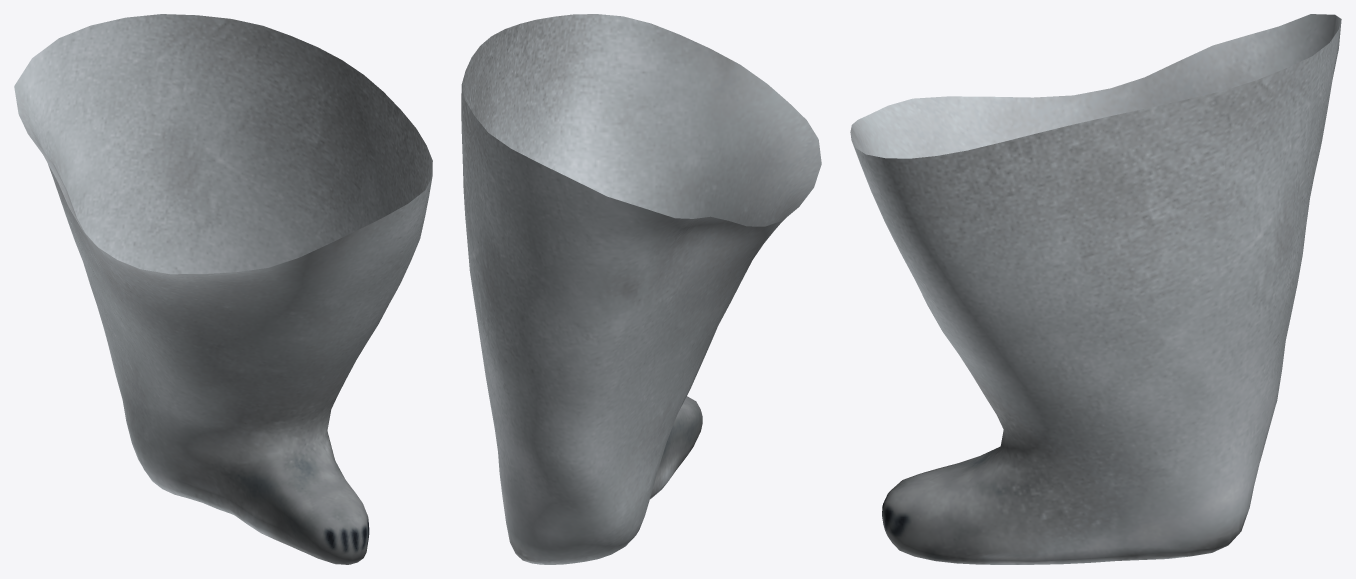
File: Polar_Bear_BL_Leg.obj
3 renders of one model, left to right at view 1: azimuth 30°, elevation 25°; view 2: azimuth 150°, elevation 25°; view 3: azimuth 270°, elevation 25°, orthographic. The views are drawn at different scales.
Visible parts, largest first — view 1: Polar_Bear_Quad.005; view 2: Polar_Bear_Quad.005; view 3: Polar_Bear_Quad.005.
Boxes of the visible parts, bbox=[...] form: Polar_Bear_Quad.005: bbox=[14, 14, 432, 564]; Polar_Bear_Quad.005: bbox=[461, 14, 821, 564]; Polar_Bear_Quad.005: bbox=[850, 14, 1341, 564].
Bounding box in the file's own units: 0.4833 × 0.7285 × 0.6539.
